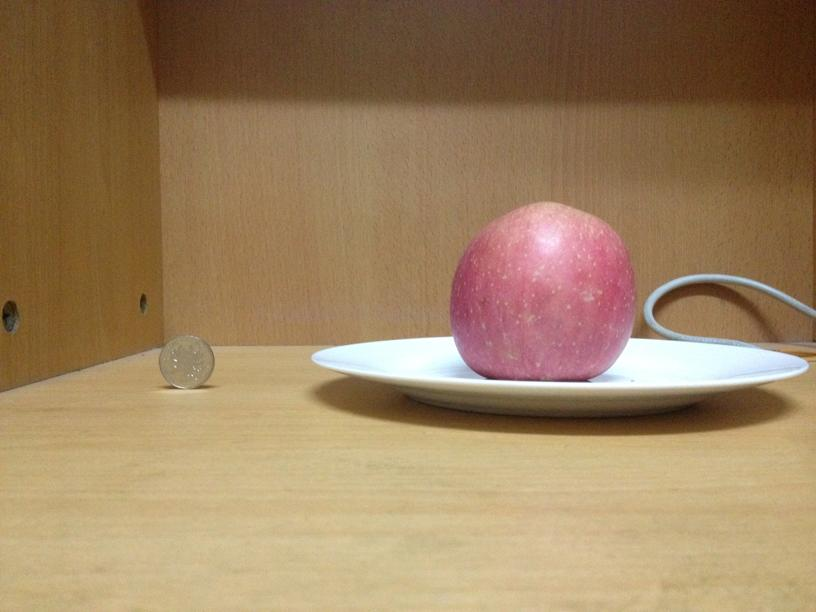apple: (447, 200, 633, 379)
coin: (161, 334, 213, 390)
